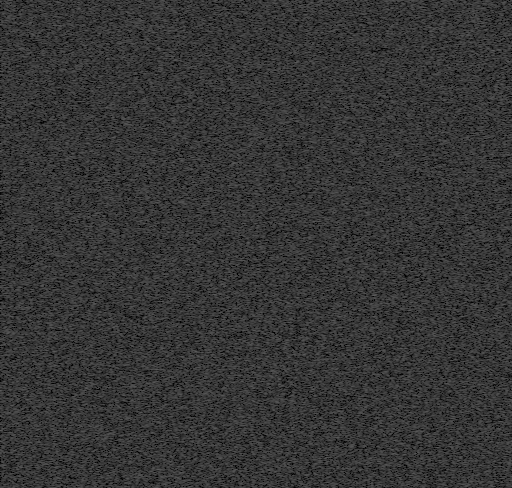wv_am: (34, 0, 40, 488)
wv_cw: (21, 0, 27, 488)
wv_lsb: (9, 367, 14, 423), (48, 436, 54, 465), (0, 40, 4, 76), (9, 51, 14, 75), (49, 15, 53, 43), (0, 118, 4, 143), (10, 179, 14, 204), (9, 428, 14, 447), (0, 190, 4, 213), (9, 89, 14, 106), (0, 168, 4, 189), (0, 3, 4, 24), (0, 144, 4, 163), (0, 77, 4, 95), (49, 357, 53, 375), (49, 237, 53, 254), (0, 289, 4, 306), (49, 472, 53, 488), (49, 164, 53, 179), (9, 76, 14, 88), (49, 376, 53, 389), (0, 275, 4, 288), (9, 116, 14, 126), (0, 102, 4, 114), (10, 146, 14, 158), (0, 322, 4, 334), (0, 218, 4, 228), (0, 25, 4, 35), (0, 470, 4, 480), (0, 460, 4, 469), (0, 312, 4, 321), (10, 107, 14, 115), (9, 42, 13, 50), (10, 231, 13, 241), (10, 219, 13, 229), (0, 229, 4, 235), (49, 44, 53, 50), (10, 271, 13, 279), (0, 391, 4, 397), (0, 361, 4, 367), (0, 336, 4, 342), (0, 266, 4, 272), (10, 479, 13, 486), (10, 326, 13, 333), (10, 318, 13, 325), (10, 160, 13, 167), (10, 206, 14, 211), (0, 447, 4, 452), (0, 382, 4, 387), (0, 355, 4, 360), (0, 253, 4, 258), (10, 306, 13, 312), (10, 285, 13, 291), (10, 264, 13, 270), (10, 252, 13, 258), (10, 127, 13, 133), (0, 401, 3, 407), (49, 467, 53, 471), (0, 455, 4, 459), (0, 349, 4, 353), (0, 261, 4, 265), (0, 241, 4, 245), (0, 236, 4, 240), (10, 212, 13, 217), (10, 173, 13, 178), (0, 98, 4, 101), (0, 36, 4, 39), (10, 461, 13, 465), (10, 448, 13, 452), (10, 362, 13, 366), (10, 334, 13, 338), (9, 259, 13, 262), (10, 168, 13, 172), (10, 142, 14, 145), (0, 485, 4, 488), (0, 481, 4, 484), (0, 343, 4, 346), (50, 2, 53, 5), (10, 302, 13, 305), (10, 297, 13, 300), (10, 248, 13, 251), (10, 136, 13, 139), (0, 422, 3, 425), (1, 369, 4, 372)
wv_usb: (18, 2, 24, 284), (12, 217, 18, 488), (12, 57, 18, 150), (12, 151, 18, 216), (12, 3, 17, 56), (19, 423, 23, 479), (19, 306, 24, 328), (19, 353, 23, 374), (19, 285, 23, 305), (19, 329, 24, 343), (19, 393, 23, 409), (19, 378, 23, 392), (19, 410, 23, 422), (19, 480, 23, 488), (19, 349, 23, 352), (19, 345, 23, 348)
wv_wbfm: (385, 39, 471, 336), (390, 363, 467, 488), (402, 0, 450, 40), (401, 339, 464, 362), (384, 334, 432, 341), (431, 356, 464, 365), (442, 0, 452, 29), (387, 365, 398, 368), (397, 345, 404, 349), (458, 341, 467, 344), (392, 356, 399, 359)
